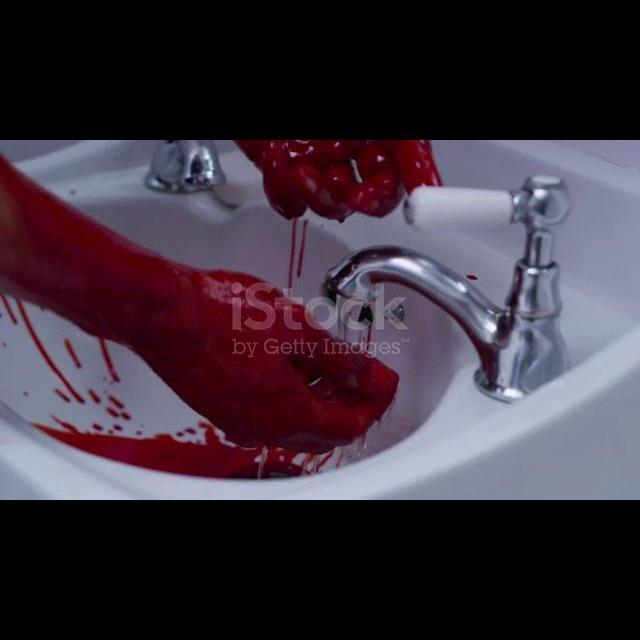blood: (0, 156, 398, 478), (236, 140, 442, 296), (0, 293, 84, 404), (98, 338, 120, 382), (85, 423, 137, 438), (175, 421, 204, 444), (106, 395, 130, 420), (63, 338, 81, 369), (50, 416, 81, 434), (86, 391, 101, 404), (54, 390, 69, 402), (366, 325, 372, 352)
